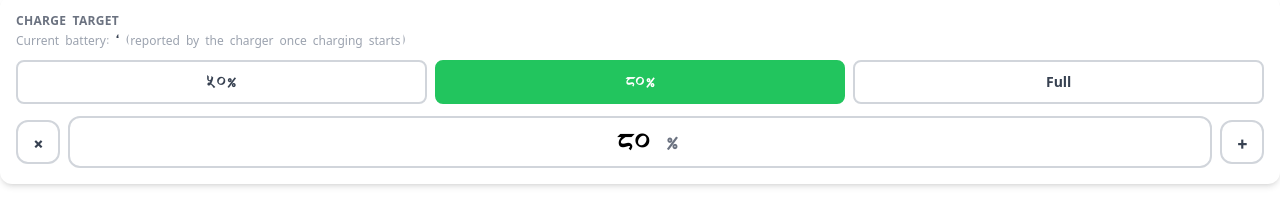
it: ChargeTargetCard › sets the number when a preset is tapped
Click the button "Full" at (1059, 82), box [853,60,1264,104]
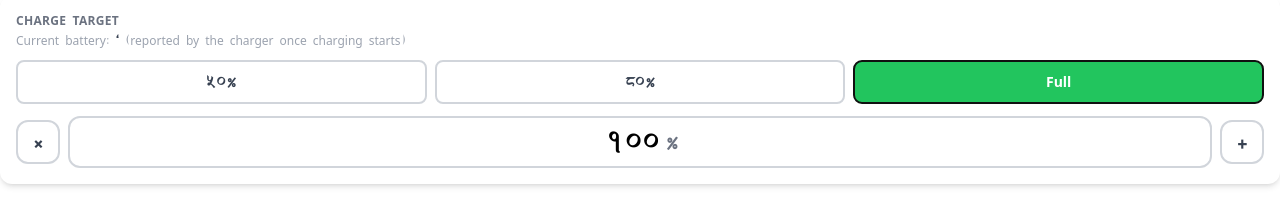
Expected: the number field named "Target battery %" holds "100", [601,126,665,158]
Click the button "50%" at (221, 82), box [16,60,427,104]
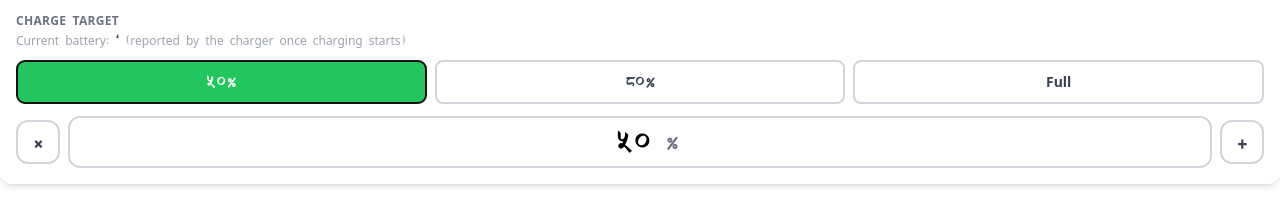
Expected: the number field named "Target battery %" holds "50", [601,126,665,158]
